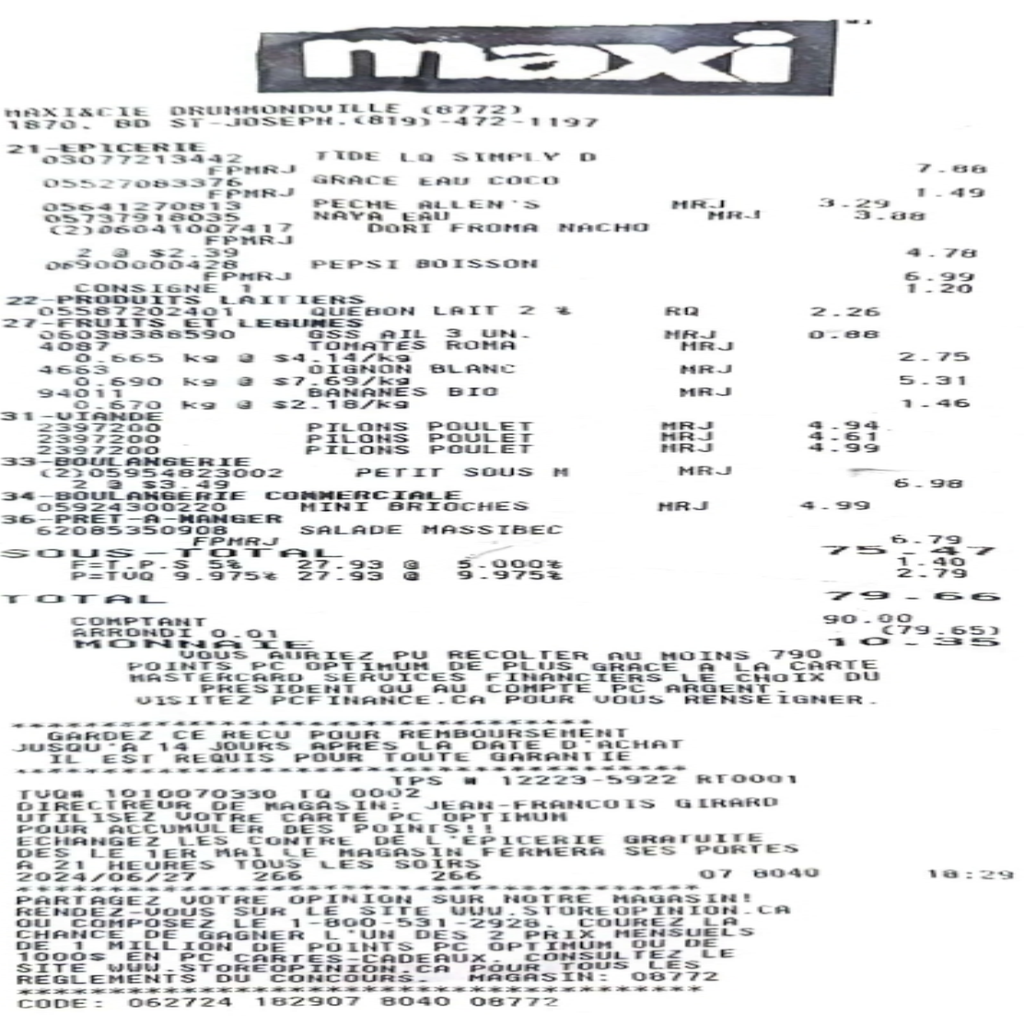recipt: (2, 4, 1018, 1018)
